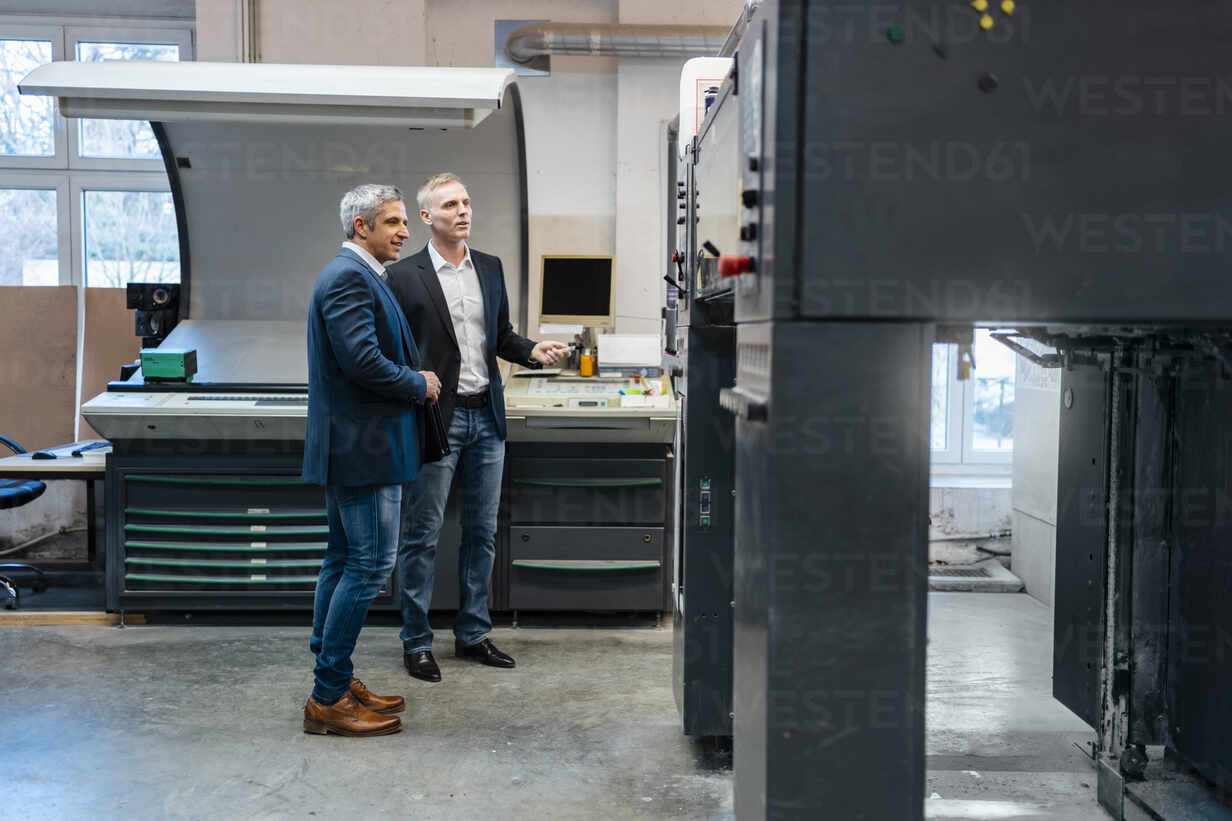person: (404, 175, 566, 676), (300, 183, 440, 733)
